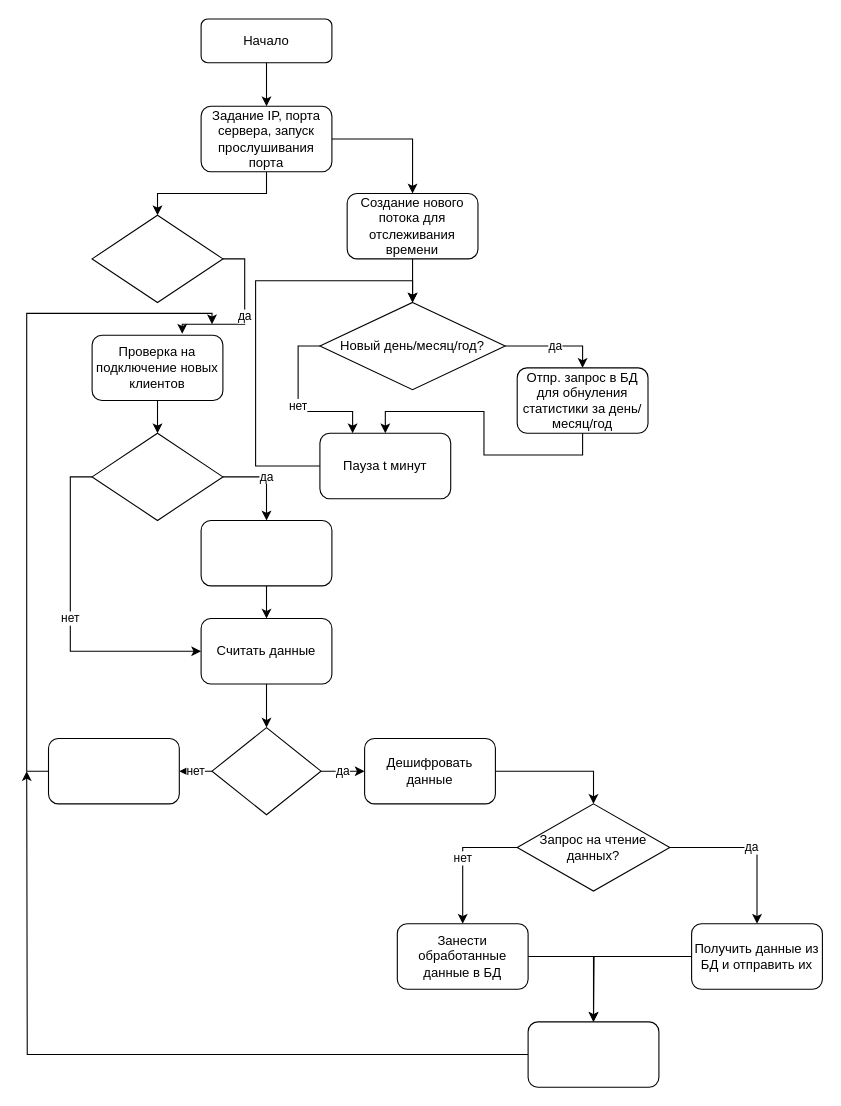
The diagram is 841 pixels wide and 1106 high, and some of its shapes have lost their labels. The box of each missing label's shape, as (x1, y1, x2, y2) in pixels:
Если запрос на подключение: (91, 432, 223, 520)
Если Истина: (91, 214, 223, 302)
Есть данные: (211, 726, 321, 815)
Закрыть соединение: (47, 737, 179, 804)
Отправка результатов операции клиенту: (527, 1021, 659, 1087)
Принять подключение: (200, 519, 332, 586)
